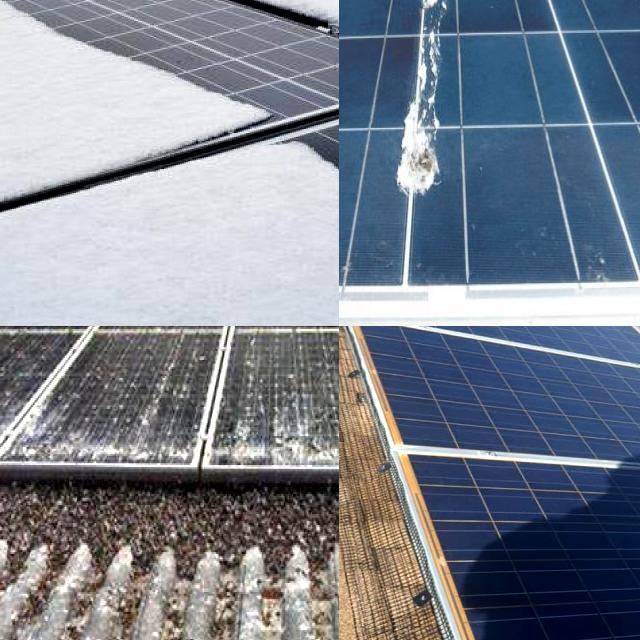bird: (395, 0, 456, 208), (17, 389, 77, 464), (224, 405, 302, 455), (0, 410, 33, 455), (315, 396, 339, 454), (0, 395, 13, 457)
crack: (339, 326, 640, 499), (387, 439, 640, 640), (339, 326, 640, 408), (339, 326, 619, 390), (339, 326, 575, 384)
panel: (156, 60, 328, 165), (0, 150, 208, 220), (84, 0, 258, 66), (32, 22, 181, 84), (96, 0, 249, 41), (278, 134, 339, 227), (273, 0, 339, 69), (242, 0, 339, 40), (8, 0, 115, 33), (112, 0, 280, 18), (0, 0, 72, 39), (0, 0, 56, 46), (0, 0, 37, 22)
